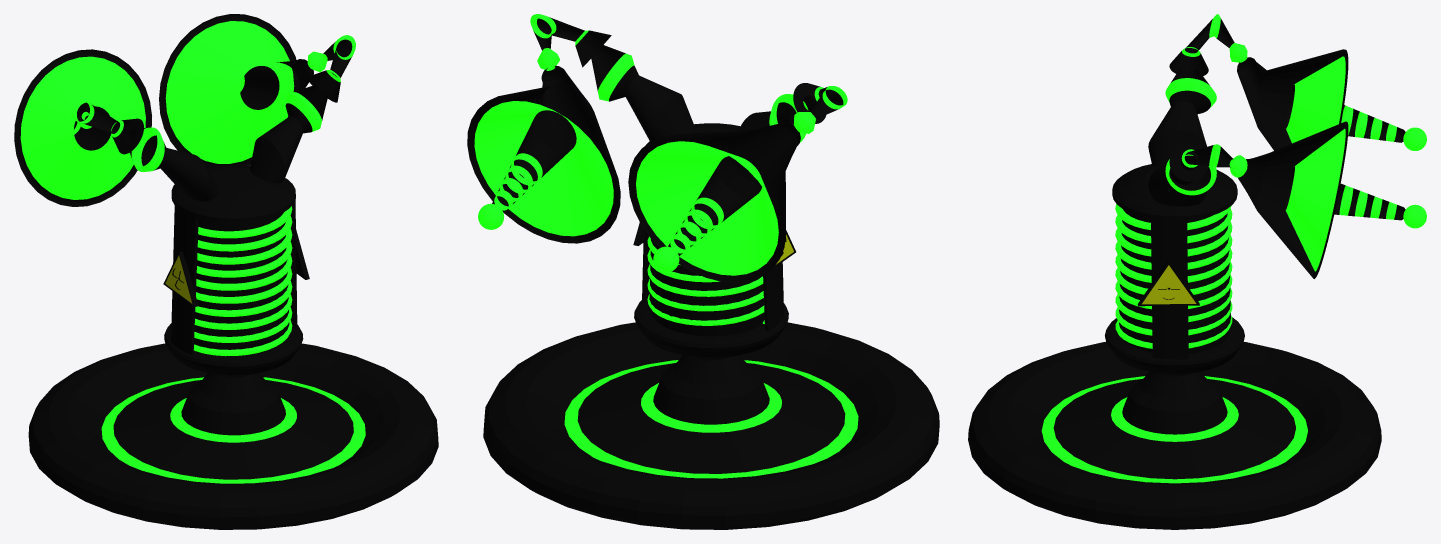
Rendered from Ruben_Toren2.fbx.
3 renders of one model, left to right at view 1: azimuth 30°, elevation 25°; view 2: azimuth 150°, elevation 25°; view 3: azimuth 270°, elevation 25°, orthographic. The views are drawn at different scales.
Visible parts, largest first — view 1: Circle, Circle.001, Cube, Cube.001; view 2: Circle, Circle.001, Cube; view 3: Circle, Circle.001, Cube, Cube.001.
Part boxes in pixels (x1,y1,x2,y2): Circle: [28, 164, 438, 529]; Circle.001: [14, 14, 355, 206]; Cube: [193, 206, 292, 356]; Cube.001: [163, 229, 309, 307]; Circle: [483, 123, 939, 529]; Circle.001: [467, 14, 847, 282]; Cube: [647, 236, 764, 325]; Circle: [968, 164, 1381, 529]; Circle.001: [1148, 14, 1426, 278]; Cube: [1115, 204, 1232, 348]; Cube.001: [1137, 260, 1199, 306].
Size of the model in its own units: 296 by 328 by 299.
